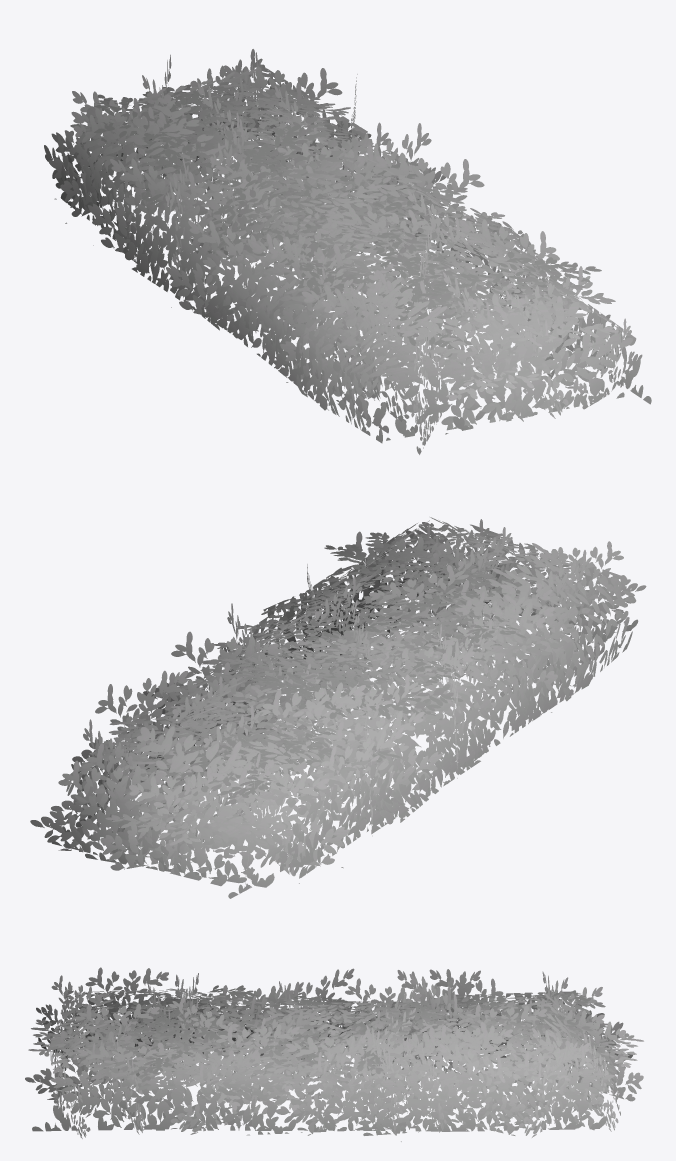
Rendered from SM_Com_Shr_02AS.fbx.
3 renders of one model, top to bottom at view 1: azimuth 30°, elevation 25°; view 2: azimuth 150°, elevation 25°; view 3: azimuth 270°, elevation 25°, orthographic. The views are drawn at different scales.
Parts seen in each view (by area): view 1: SM_Com_Shr_02AS.mo; view 2: SM_Com_Shr_02AS.mo; view 3: SM_Com_Shr_02AS.mo.
Part boxes in pixels (x1,y1,x2,y2): SM_Com_Shr_02AS.mo: (44, 49, 651, 454); SM_Com_Shr_02AS.mo: (30, 517, 646, 898); SM_Com_Shr_02AS.mo: (25, 967, 643, 1141).
Size of the model in its own units: 1.7 by 0.6187 by 3.48.
